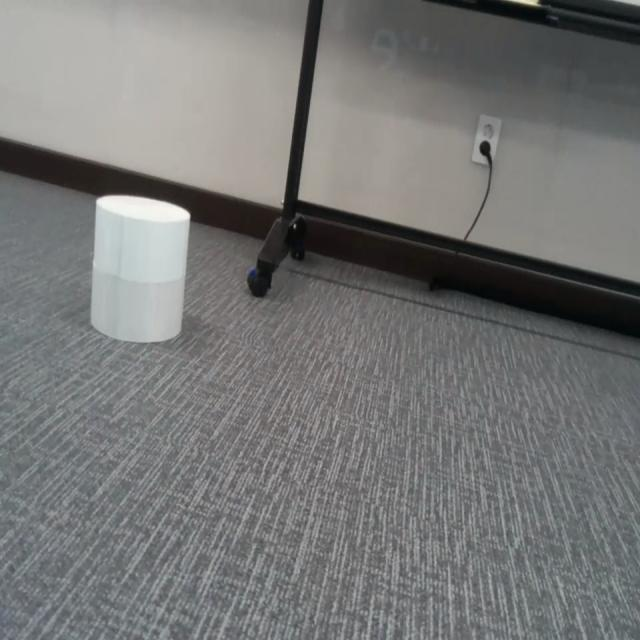cylinder: (89, 193, 190, 344)
